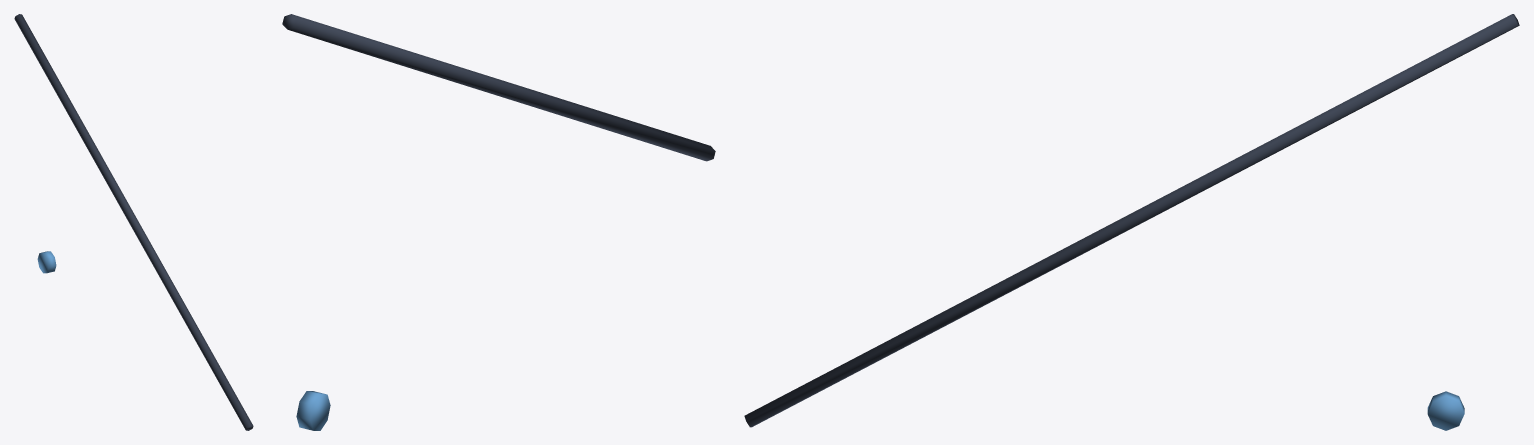
File: rod.glb
The picture shows the model from 3 angles, left to right: view 1: azimuth 30°, elevation 25°; view 2: azimuth 150°, elevation 25°; view 3: azimuth 270°, elevation 25°; orthographic projection. The views are drawn at different scales.
Visible parts, largest first — view 1: rod, rod_reel; view 2: rod, rod_reel; view 3: rod, rod_reel.
Part boxes in pixels (<box>): rod: <box>14,14,253,430</box>; rod_reel: <box>37,251,56,273</box>; rod: <box>282,14,715,161</box>; rod_reel: <box>296,391,330,430</box>; rod: <box>744,14,1519,427</box>; rod_reel: <box>1427,391,1464,430</box>.
Bounding box in the file's own units: 0.0773 × 1.23 × 2.1.
